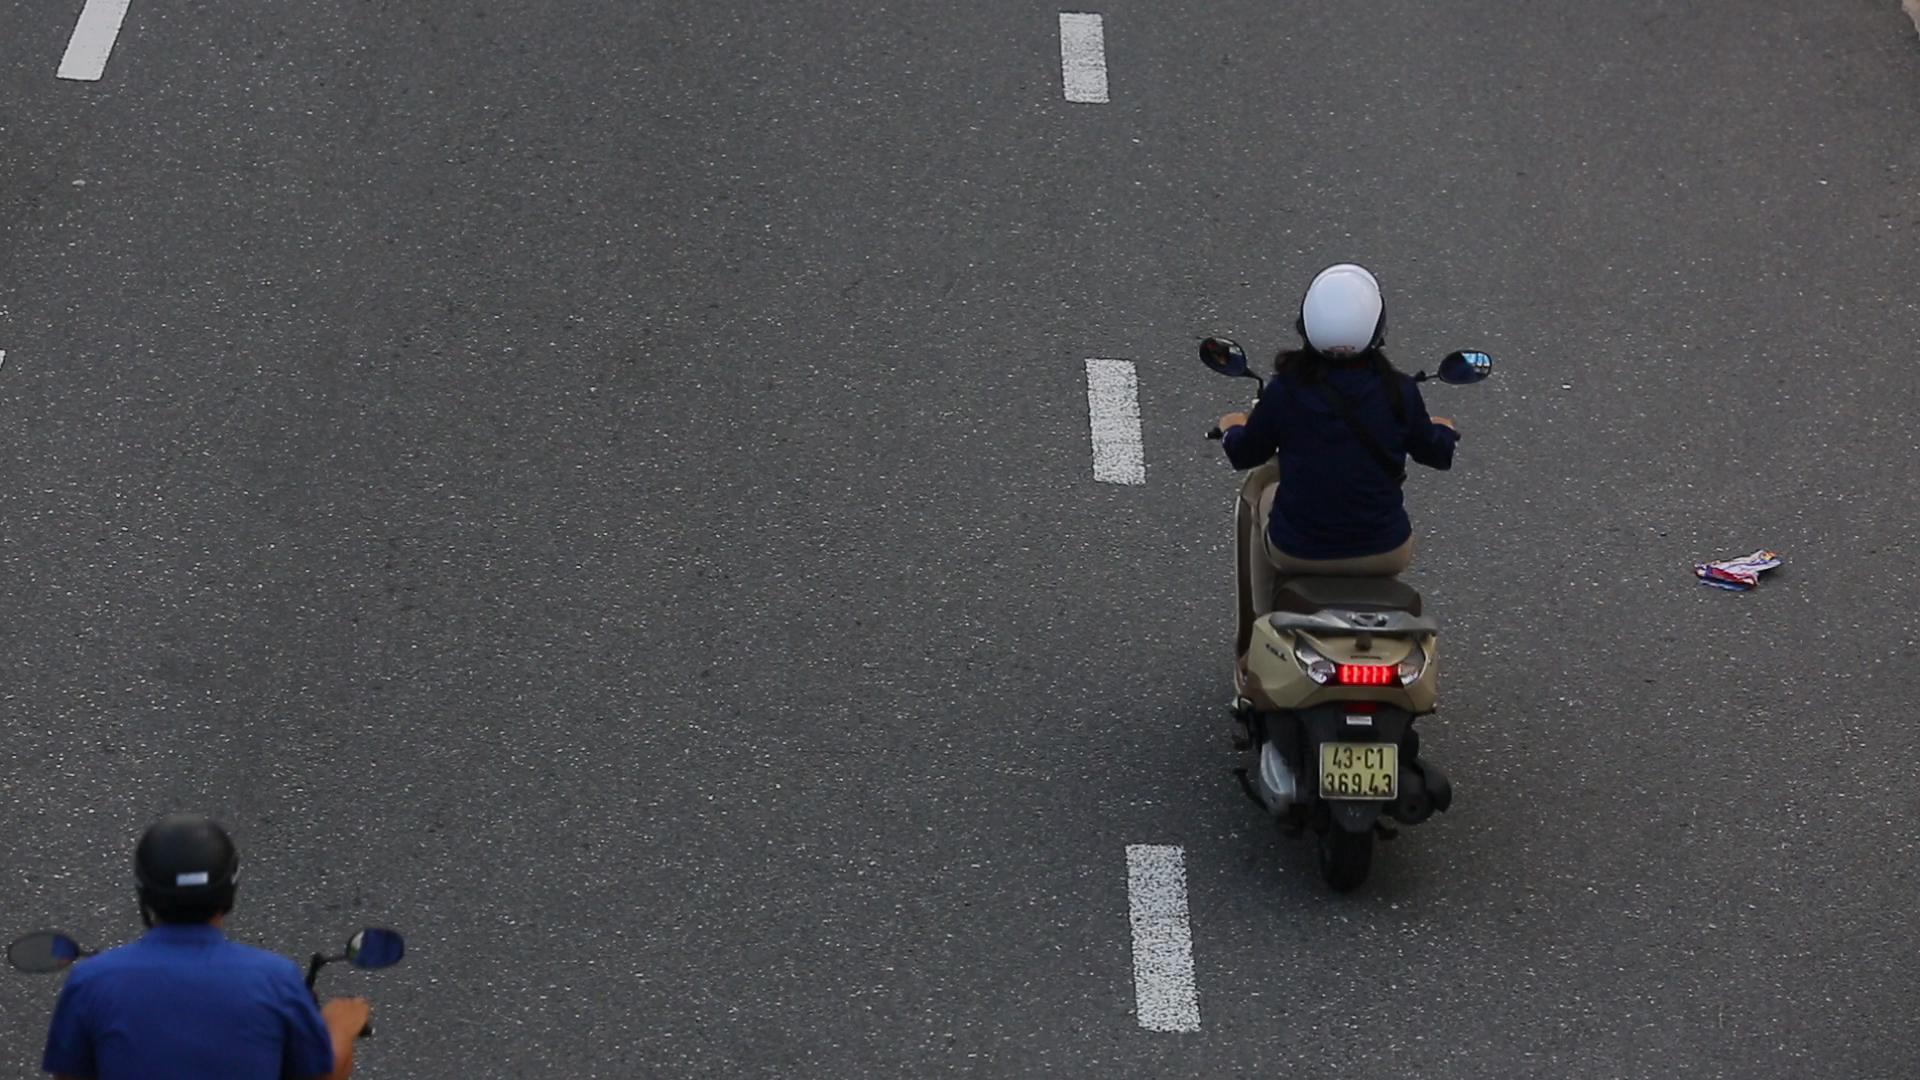motobike: (1187, 248, 1485, 907)
